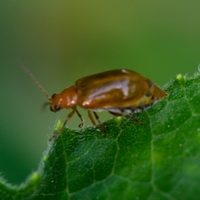insect: (17, 61, 166, 137)
